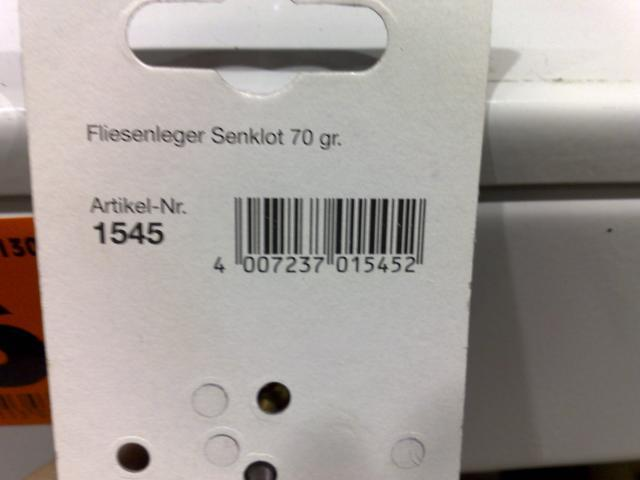Barkod: (230, 196, 424, 253)
